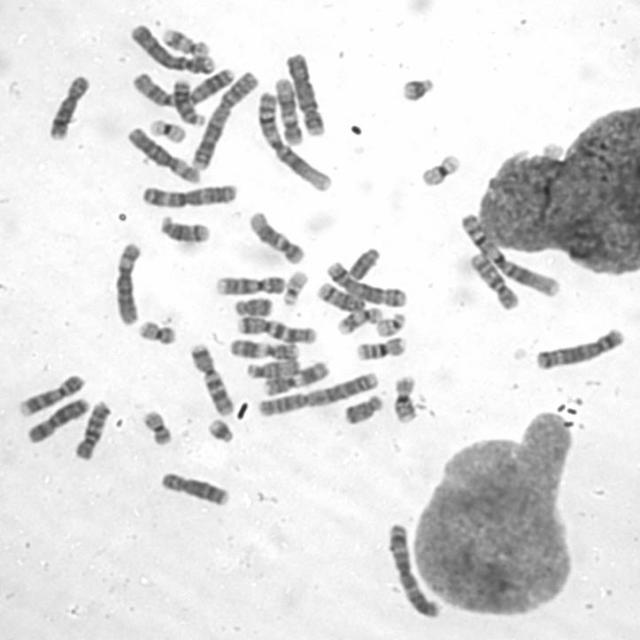A1: (459, 209, 562, 298), (254, 89, 333, 193)
A2: (188, 67, 261, 172), (254, 368, 380, 418)
A3: (383, 518, 443, 620), (138, 180, 238, 209)
B4: (127, 20, 218, 75), (283, 49, 326, 139)
B5: (532, 325, 626, 371), (323, 258, 408, 308)
C10: (466, 250, 520, 312), (72, 397, 113, 461)
C11: (259, 356, 330, 397), (227, 336, 301, 362)
C12: (245, 207, 306, 267), (272, 74, 304, 148)
C6: (124, 122, 202, 186), (109, 240, 145, 328)
C7: (186, 339, 234, 416), (234, 312, 318, 344)
C8: (44, 72, 92, 142), (157, 468, 231, 508)
C9: (15, 370, 87, 417), (213, 272, 285, 296)
D13: (183, 70, 237, 105), (169, 77, 205, 126)
D14: (314, 279, 366, 314), (156, 212, 212, 244)
D15: (131, 76, 187, 110), (243, 356, 301, 380)
E16: (352, 334, 408, 362), (390, 372, 420, 424)
E17: (160, 25, 212, 58), (335, 304, 383, 336)
E18: (341, 391, 383, 426), (231, 294, 274, 318)
F19: (417, 151, 463, 187), (147, 116, 188, 144)
F20: (139, 405, 173, 448), (135, 316, 178, 346)
G21: (397, 72, 437, 102), (206, 416, 236, 445)
G22: (278, 267, 310, 307), (373, 310, 407, 337)
X: (23, 394, 92, 444)
Y: (346, 243, 382, 281)
